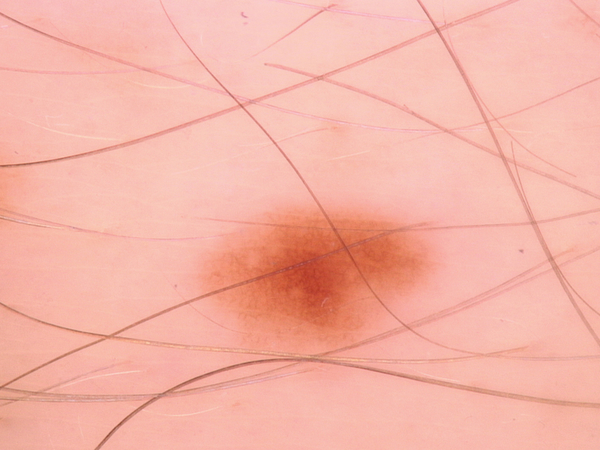Detected Lesion: (195, 203, 436, 349)
